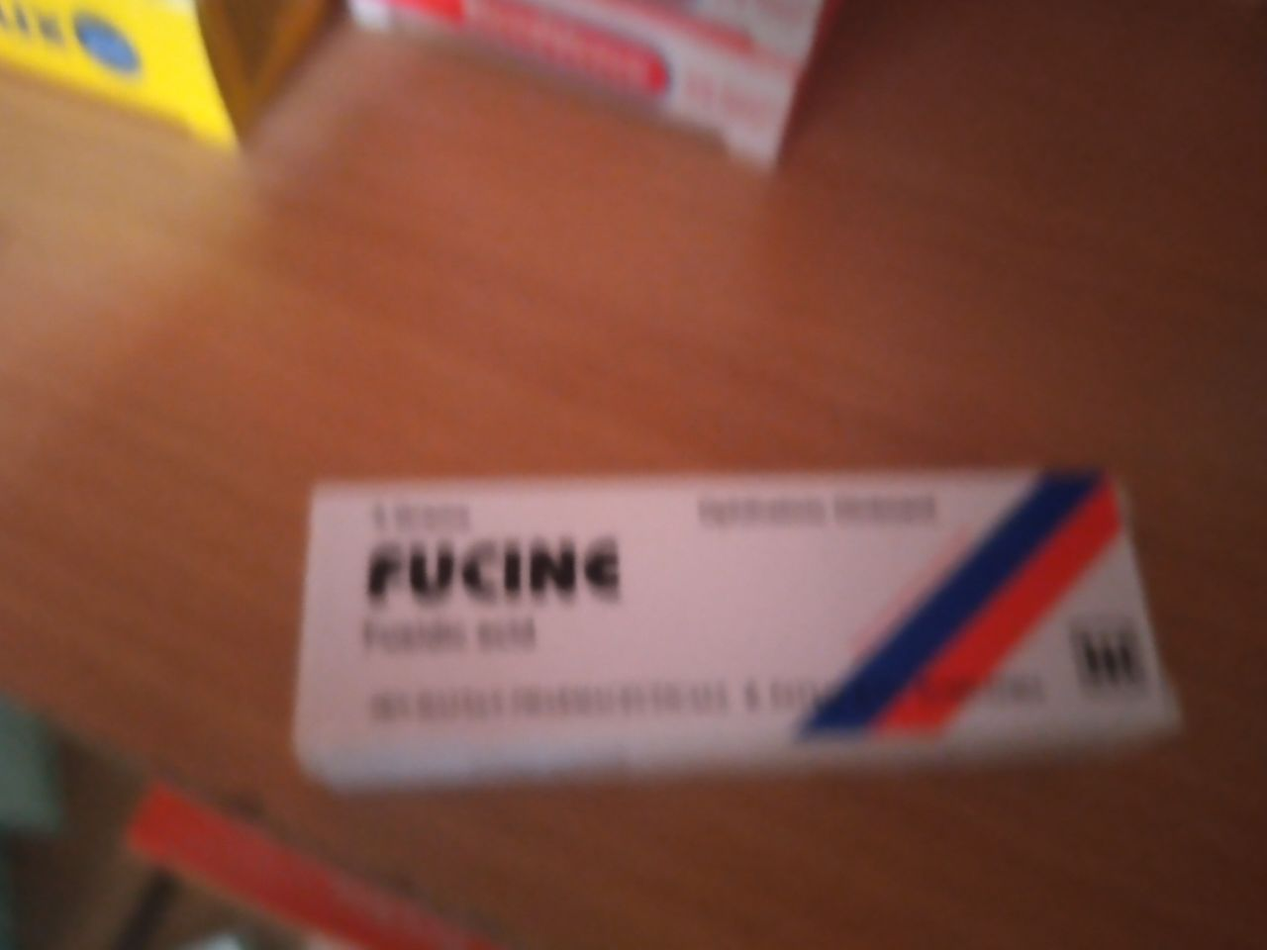Medicine: (285, 463, 1205, 807)
